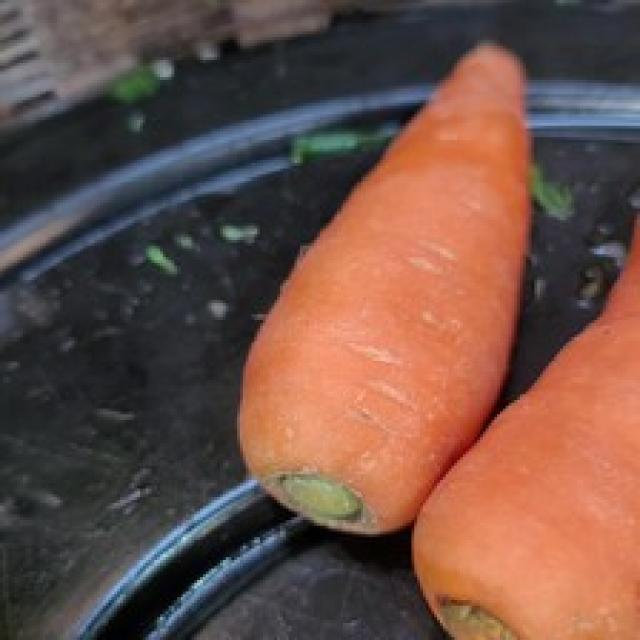carrot: (240, 44, 531, 538), (413, 215, 640, 632)
